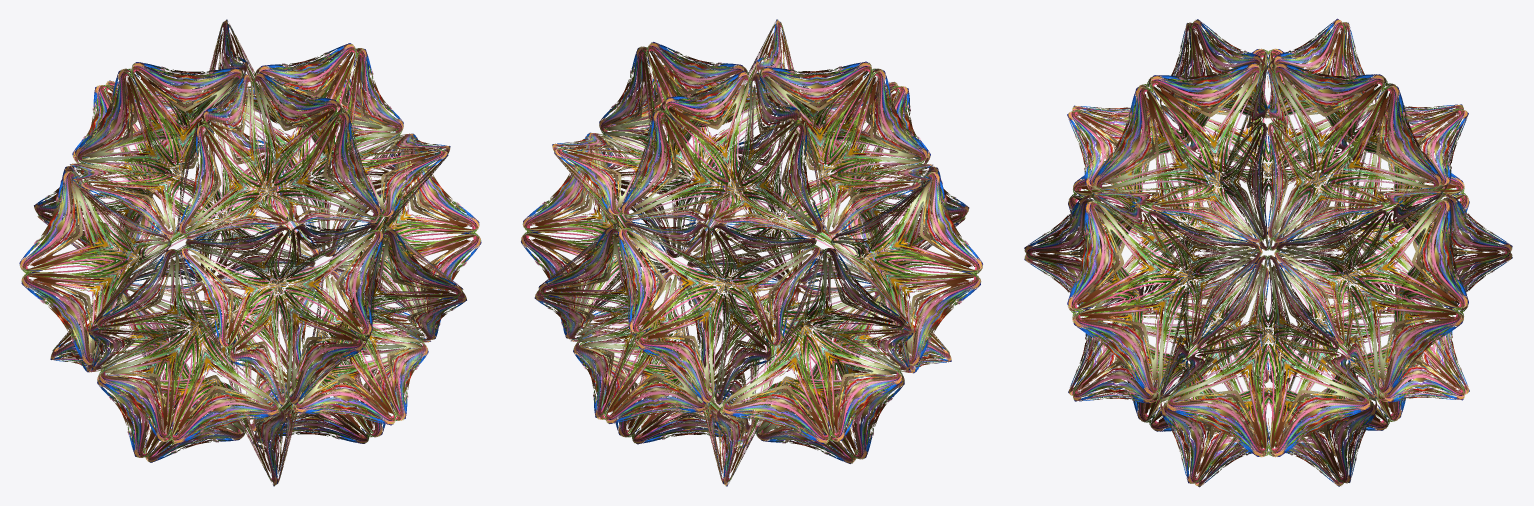
The model's file is Mobius120a_9.obj.
The picture shows the model from 3 angles, left to right: view 1: azimuth 30°, elevation 25°; view 2: azimuth 150°, elevation 25°; view 3: azimuth 270°, elevation 25°; orthographic projection. The views are drawn at different scales.
Bounding box in the file's own units: 3.62 × 3.25 × 3.8.
1 material, 1 textured.
